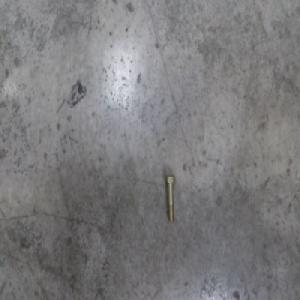Bolt: (164, 173, 175, 222)
